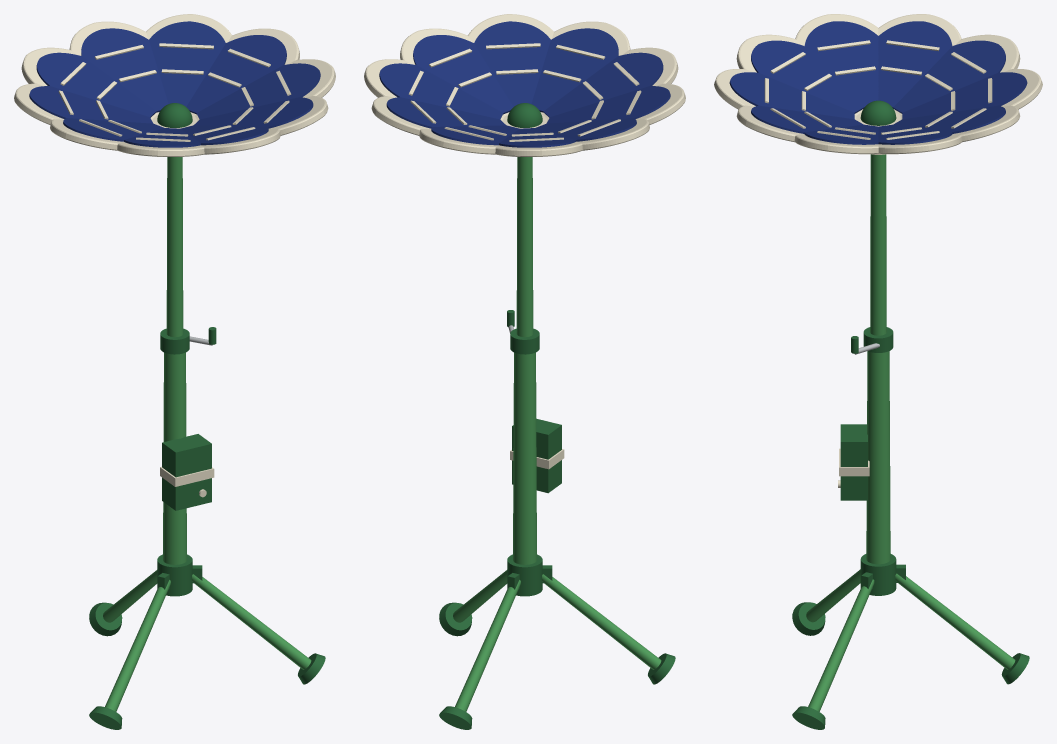
The model's file is solar-fan-panel.glb.
3 views of the same model, side by side, from view 1: azimuth 30°, elevation 25°; view 2: azimuth 150°, elevation 25°; view 3: azimuth 270°, elevation 25° (orthographic).
Visible parts, largest first — view 1: petal_pv_5, petal_pv_6, petal_pv_4, mast_lower, petal_pv_7, mast_upper, battery_pack, petal_pv_3, petal_pv_8, petal_pv_2, leg_1, leg_2 (+20 smaller); view 2: mast_lower, petal_pv_2, petal_pv_1, petal_pv_3, petal_pv_10, mast_upper, petal_pv_4, petal_pv_9, petal_pv_5, leg_2, battery_pack, leg_3 (+19 smaller); view 3: mast_lower, petal_pv_8, petal_pv_9, petal_pv_7, petal_pv_10, mast_upper, petal_pv_1, petal_pv_6, battery_pack, leg_3, leg_1, petal_pv_2 (+19 smaller).
Part boxes in pixels (box(x1,y1,x2,y2)): petal_pv_5: box(149, 21, 225, 106); petal_pv_6: box(81, 28, 168, 112); petal_pv_4: box(186, 35, 286, 114); mast_lower: box(163, 352, 186, 564); petal_pv_7: box(36, 52, 156, 117); mast_upper: box(166, 157, 183, 337); battery_pack: box(162, 434, 211, 510); petal_pv_3: box(196, 63, 320, 119); petal_pv_8: box(29, 86, 153, 123); petal_pv_2: box(194, 97, 313, 128); leg_1: box(192, 574, 311, 669); leg_2: box(105, 580, 170, 711); mast_lower: box(513, 352, 536, 564); petal_pv_2: box(474, 21, 550, 106); petal_pv_1: box(531, 28, 618, 112); petal_pv_3: box(413, 35, 513, 114); petal_pv_10: box(543, 52, 663, 117); mast_upper: box(516, 157, 533, 337); petal_pv_4: box(379, 63, 503, 119); petal_pv_9: box(546, 86, 670, 123); petal_pv_5: box(386, 97, 505, 128); leg_2: box(542, 574, 661, 669); battery_pack: box(512, 418, 561, 493); leg_3: box(455, 580, 520, 711); mast_lower: box(866, 351, 890, 564); petal_pv_8: box(878, 21, 952, 108); petal_pv_9: box(804, 21, 878, 108); petal_pv_7: box(893, 40, 1005, 113); petal_pv_10: box(751, 40, 863, 113); mast_upper: box(870, 154, 886, 335); petal_pv_1: box(729, 72, 854, 119); petal_pv_6: box(902, 72, 1027, 119); battery_pack: box(840, 424, 867, 500); leg_3: box(895, 573, 1015, 669); leg_1: box(808, 579, 874, 711); petal_pv_2: box(751, 105, 863, 133).
Size of the model in its own units: 0.9793 by 2.06 by 1.02.
